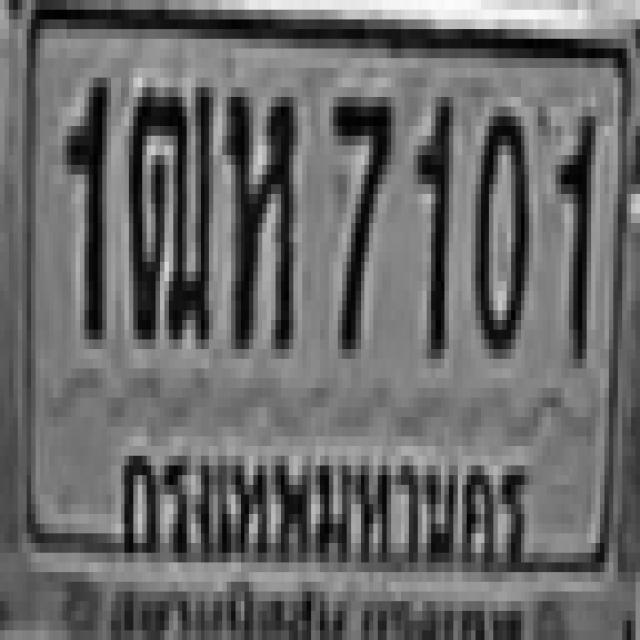0: (474, 104, 528, 356)
1: (63, 73, 107, 335), (413, 87, 449, 349), (557, 110, 592, 362)
27ThorPhuThao: (126, 78, 211, 340)
50HorHeep: (223, 85, 294, 348)
7: (331, 92, 388, 354)
Bangkok: (110, 423, 548, 601)
